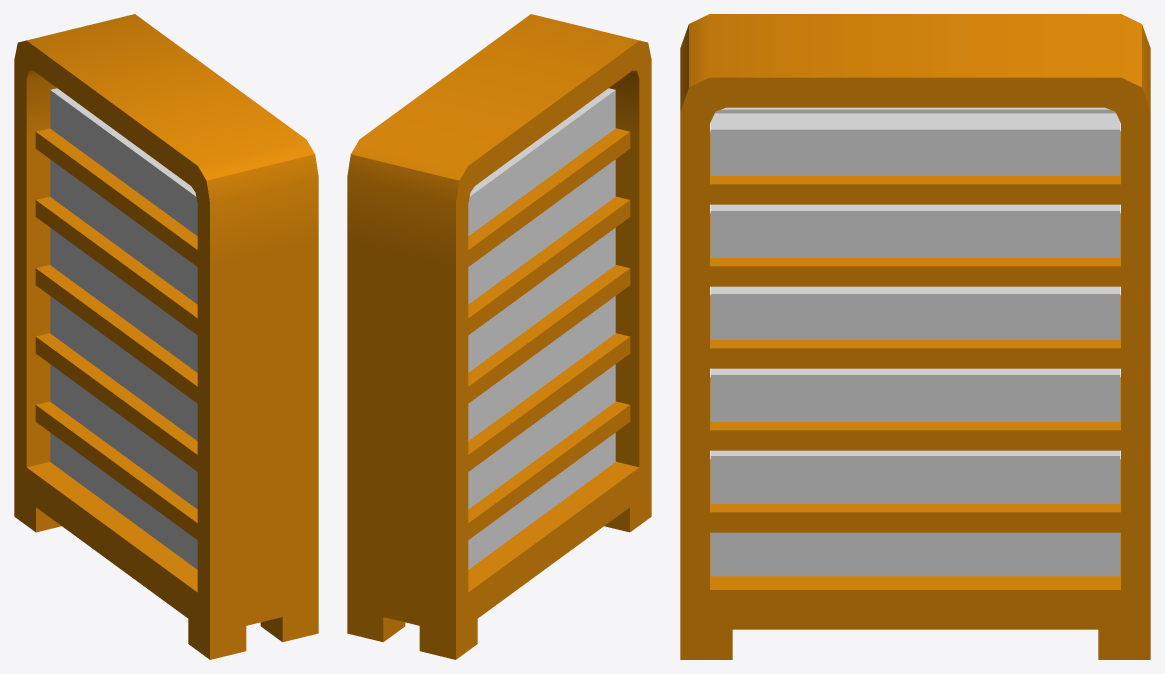
Rendered from Bookshelf.fbx.
3 renders of one model, left to right at view 1: azimuth 30°, elevation 25°; view 2: azimuth 150°, elevation 25°; view 3: azimuth 270°, elevation 25°, orthographic. The views are drawn at different scales.
Visible parts, largest first — view 1: Cube; view 2: Cube; view 3: Cube.
Boxes of the visible parts, x1=… form: Cube: x1=14, y1=14, x2=318, y2=659; Cube: x1=347, y1=14, x2=651, y2=659; Cube: x1=680, y1=14, x2=1150, y2=659.
Bounding box in the file's own units: 80.59 × 344 × 252.
